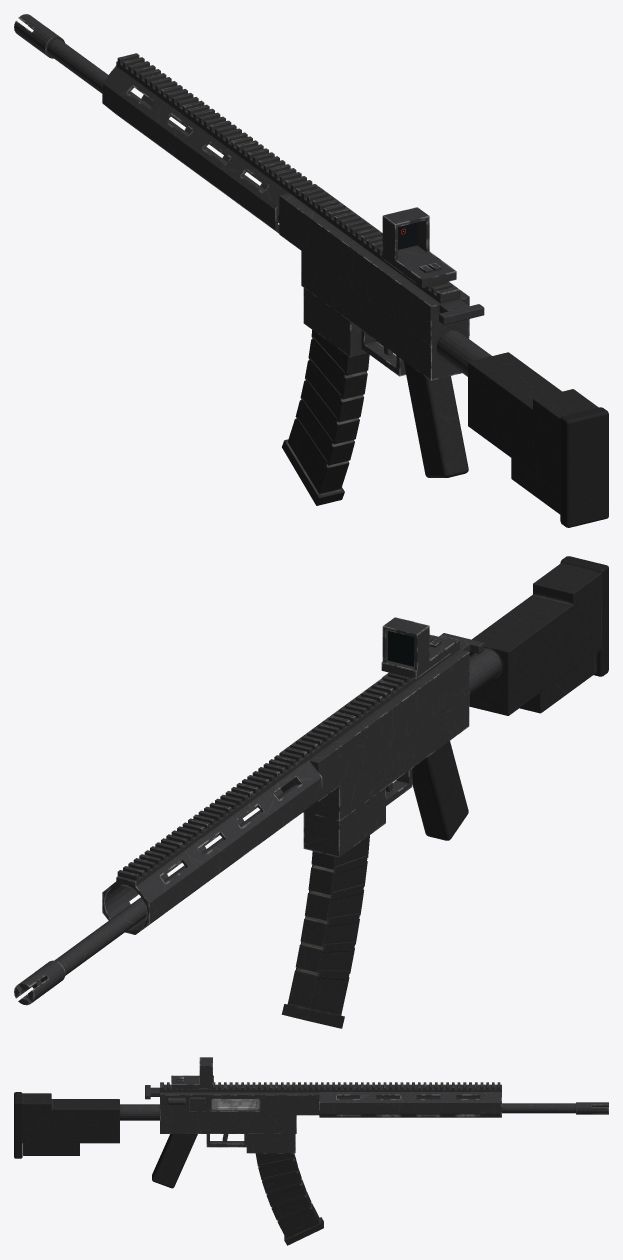
File: arme_fusil.gltf
3 renders of one model, top to bottom at view 1: azimuth 30°, elevation 25°; view 2: azimuth 150°, elevation 25°; view 3: azimuth 270°, elevation 25°, orthographic. The views are drawn at different scales.
Parts seen in each view (by area): view 1: Corps, Chargeur; view 2: Corps, Chargeur; view 3: Corps, Chargeur, Culasse.
Part boxes in pixels (bbox=[...]): Corps: bbox=[14, 14, 608, 527]; Chargeur: bbox=[282, 330, 369, 505]; Corps: bbox=[14, 556, 608, 1005]; Chargeur: bbox=[281, 835, 369, 1028]; Corps: bbox=[14, 1057, 608, 1188]; Chargeur: bbox=[255, 1153, 323, 1245]; Culasse: bbox=[211, 1099, 260, 1110].
Bounding box in the file's own units: 0.0534 × 0.3502 × 1.04.
Materials: 3 (1 with a texture image).
